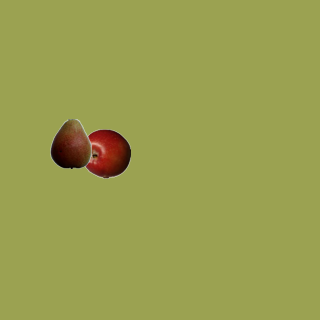Apple Braeburn: (80, 128, 130, 178)
Pear Forelle: (45, 118, 95, 168)
